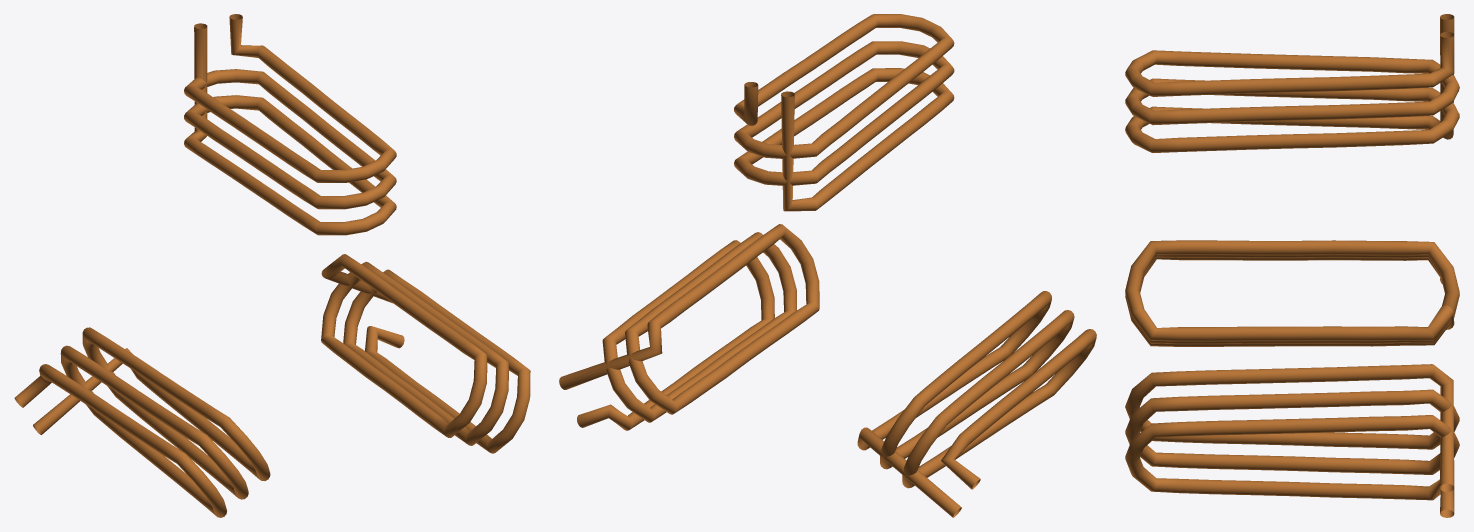
The model's file is DCblCoil7.glb.
3 renders of one model, left to right at view 1: azimuth 30°, elevation 25°; view 2: azimuth 150°, elevation 25°; view 3: azimuth 270°, elevation 25°, orthographic. The views are drawn at different scales.
Parts seen in each view (by area): view 1: Spiral.004, Spiral.002, Spiral.001; view 2: Spiral.004, Spiral.002, Spiral.001; view 3: Spiral.001, Spiral.004, Spiral.002.
Boxes of the visible parts, x1,y1,x2,y2 form: Spiral.004: (184, 14, 396, 235); Spiral.002: (14, 327, 270, 517); Spiral.001: (321, 254, 530, 453); Spiral.004: (734, 14, 954, 211); Spiral.002: (857, 291, 1096, 517); Spiral.001: (559, 224, 819, 430); Spiral.001: (1125, 364, 1459, 517); Spiral.004: (1125, 14, 1459, 152); Spiral.002: (1125, 240, 1459, 346).
Bounding box in the file's own units: 6.9 × 6.04 × 4.6.
